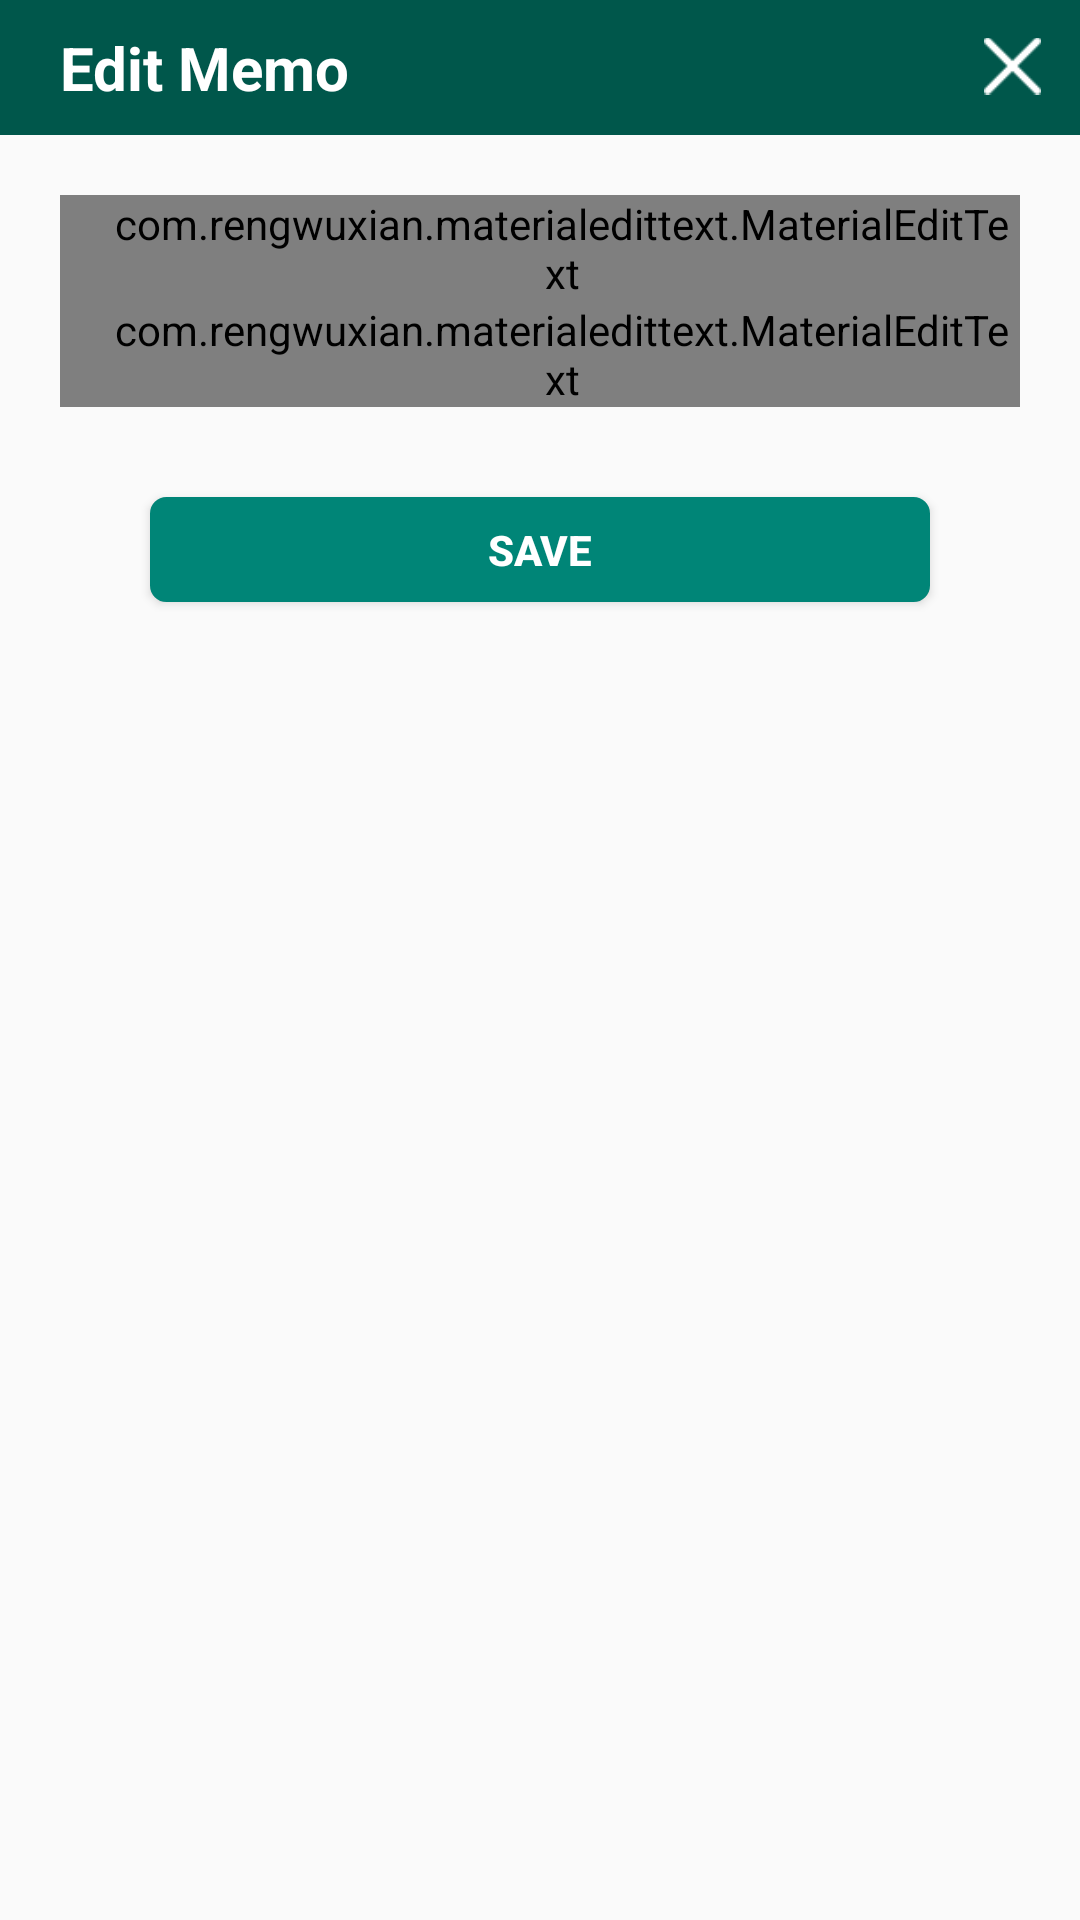

Icon click points for this 1080x1920 phone screenshot, format [x,y]:
cross: [1012,66]
